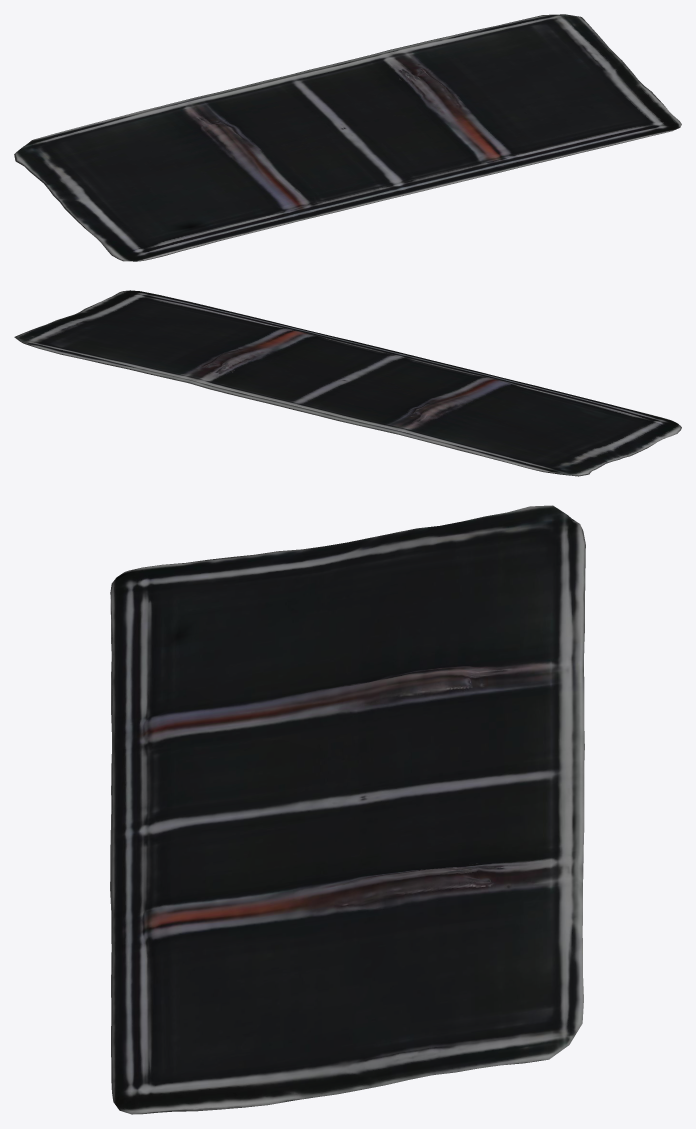
The model's file is rampa.obj.
3 views of the same model, one above another, from view 1: azimuth 30°, elevation 25°; view 2: azimuth 150°, elevation 25°; view 3: azimuth 270°, elevation 25° (orthographic). The views are drawn at different scales.
Parts seen in each view (by area): view 1: rampa; view 2: rampa; view 3: rampa.
Part boxes in pixels (<box>): rampa: <box>14,14,681,261</box>; rampa: <box>14,290,681,476</box>; rampa: <box>110,505,585,1114</box>.
Bounding box in the file's own units: 10.86 × 0.6694 × 3.92.
1 material, 1 textured.
